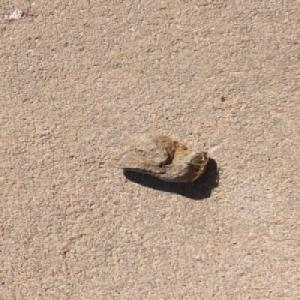Rock: (103, 132, 208, 182)
